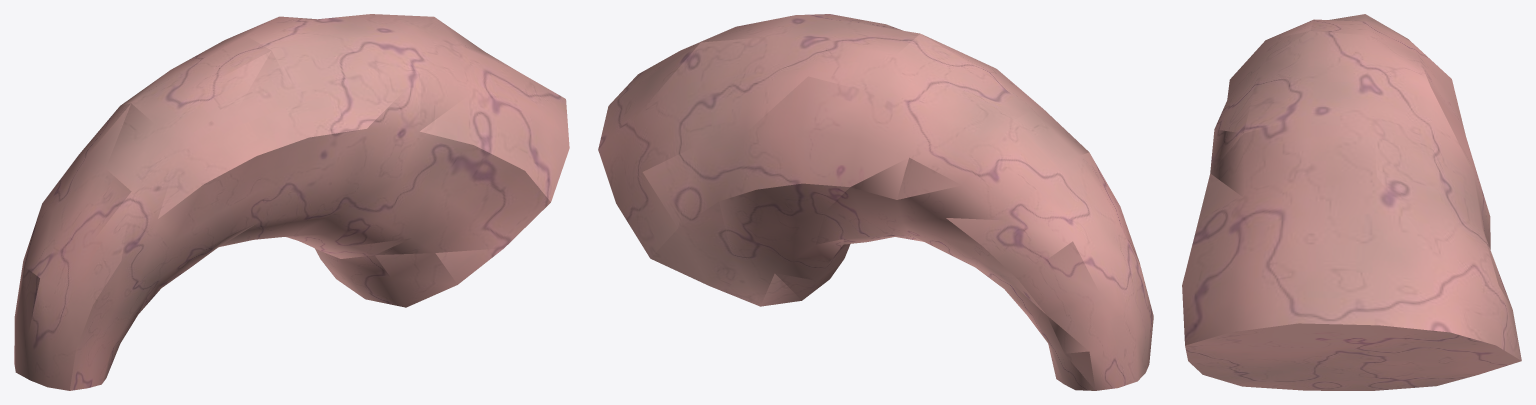
The model's file is stomach.glb.
3 renders of one model, left to right at view 1: azimuth 30°, elevation 25°; view 2: azimuth 150°, elevation 25°; view 3: azimuth 270°, elevation 25°, orthographic. The views are drawn at different scales.
Parts seen in each view (by area): view 1: OUT; view 2: OUT; view 3: OUT.
Part boxes in pixels (box(x1,y1,x2,y2)): OUT: box(14, 14, 569, 390); OUT: box(598, 14, 1153, 390); OUT: box(1182, 14, 1521, 390).
Size of the model in its own units: 0.214 by 0.1122 by 0.1049.
Materials: 1 (1 with a texture image).
